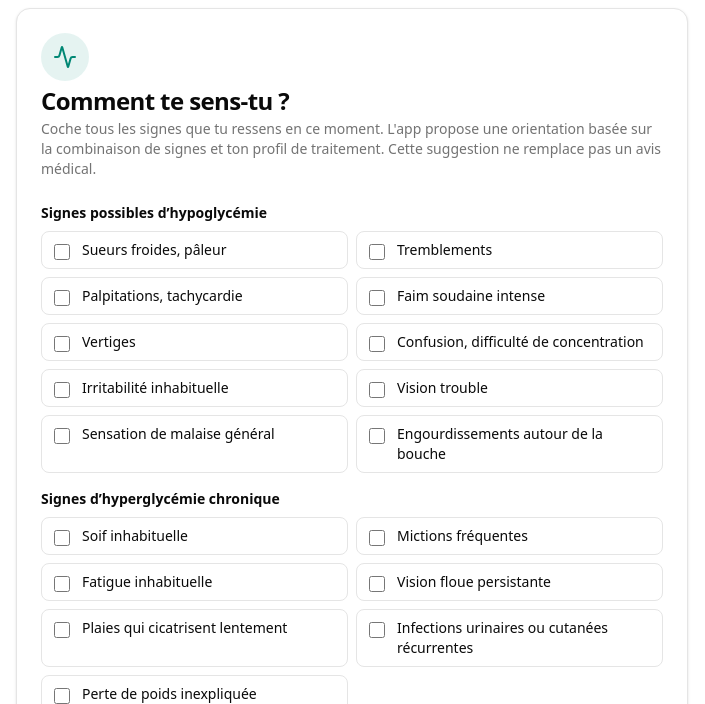
it: <SymptomsNewPage /> › shows a level3a hypo triage card on multiple hypo signs at risk profile
Click the checkbox labelled "Sueurs froides, pâleur" at (62, 252), box [54,244,70,260]
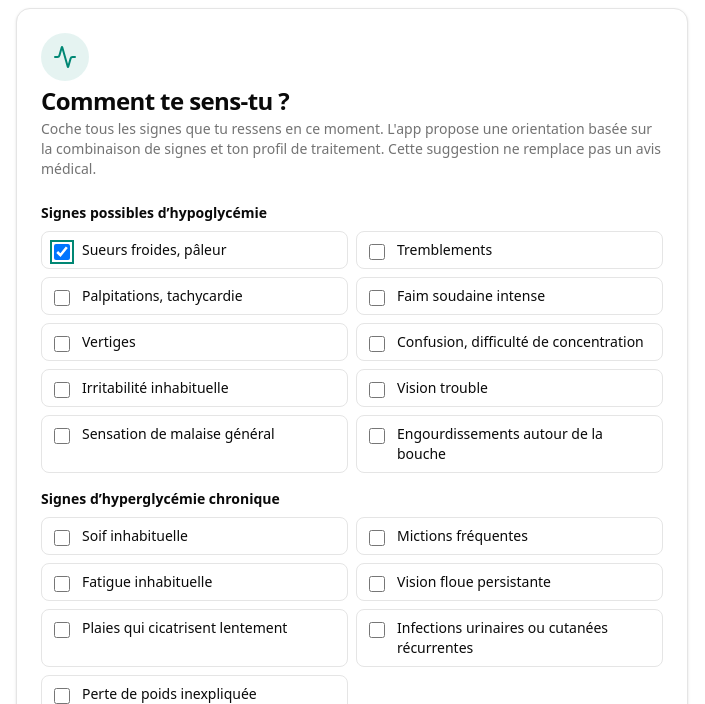
Click the checkbox labelled "Tremblements" at (377, 252), box [369,244,385,260]
(page scrolled)
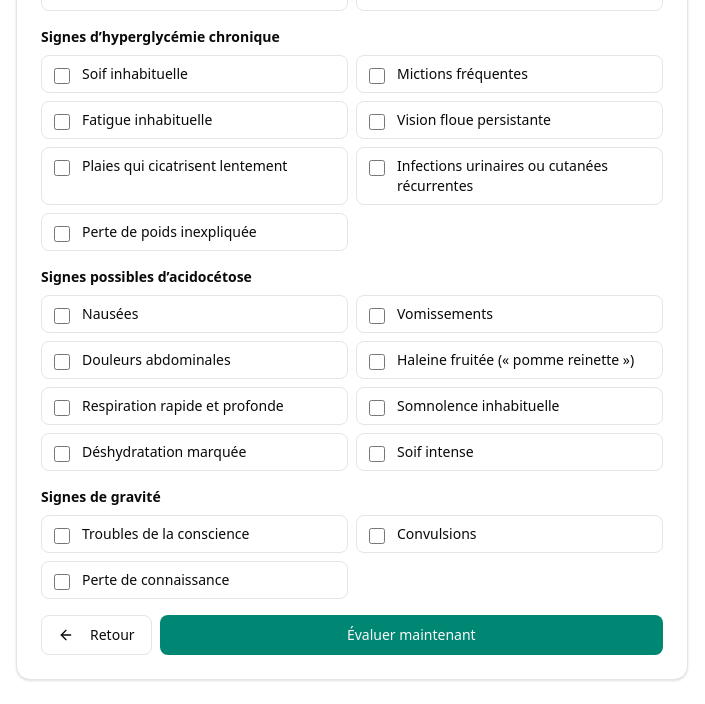
Click the button with test id "triage-evaluate" at (411, 635), box [160,615,663,655]
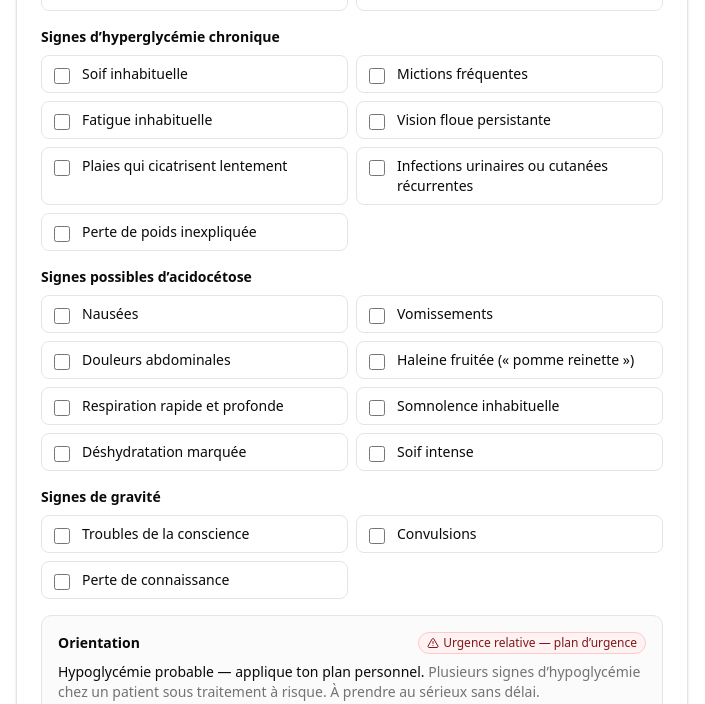
Result: the element with test id "alert-badge-level3a" is shown at [418,632,646,654]
